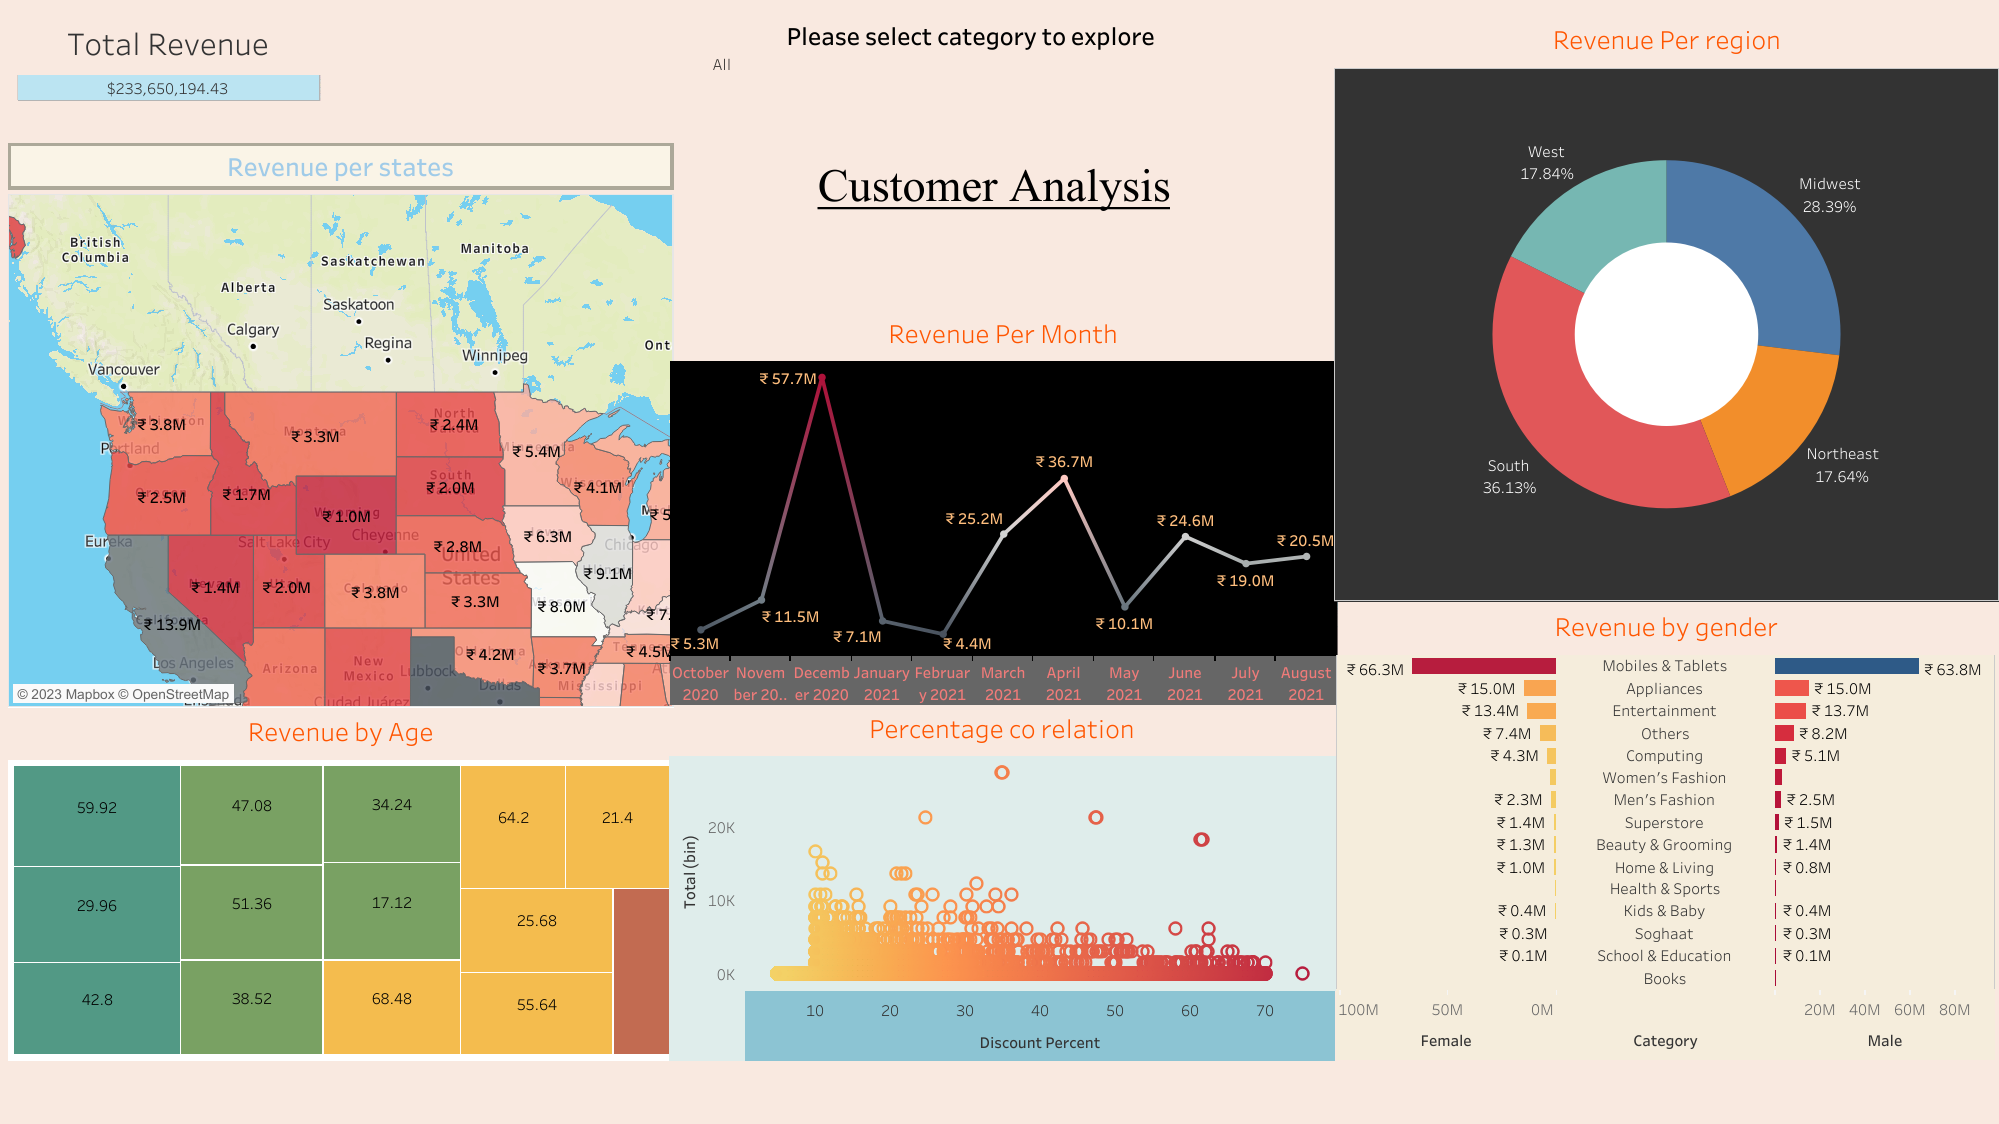

The page's visual inventory and layout, read from the dashboard file:
{"tool":"tableau","page":{"name":"Dashboard 1","canvas":[1600,900],"ordinal":0},"visuals":[{"type":"text","box":[8,8,1584,884]},{"type":"worksheet","title":"Total","mark":"Automatic","box":[14,11,241,96]},{"type":"worksheet","title":"Revenue Per region","mark":"Pie","rows":["Calculation_1046523982064128000","Calculation_1046523982064128000"],"box":[1067,11,533,470]},{"type":"filter","title":"Revenue by gender","param":"[federated.18mufdy0m8a3381fvh0fz1dyxje2].[none:category:nk]","box":[568,14,417,99]},{"type":"worksheet","title":"sells per state","mark":"Automatic","box":[6,114,533,452]},{"type":"text","box":[580,124,431,48]},{"type":"worksheet","title":"revenue per month","mark":"Line","rows":["total"],"cols":["month"],"box":[536,246,533,318]},{"type":"worksheet","title":"Revenue by gender","mark":"Automatic","rows":["category"],"cols":["Calculation_1046523982068817921","Calculation_1046523982064128000","Calculation_1046523982069063682"],"box":[1069,481,528,368]},{"type":"worksheet","title":"Percentage co relation","mark":"Automatic","rows":["Total (bin)"],"cols":["Discount_Percent"],"box":[535,562,533,287]},{"type":"worksheet","title":"revenuw by age","mark":"Automatic","box":[6,565,533,284]}]}

Visuals, with their boxes in screenshot pixels (x1, y1, x2, y2), scaled from the page's 1600x900 canvas onto the 1999x1124 screenshot:
text: <bbox>10, 10, 1989, 1114</bbox>
"Total" worksheet: <bbox>17, 14, 319, 134</bbox>
"Revenue Per region" worksheet (Pie marks): <bbox>1333, 14, 1998, 601</bbox>
"Revenue by gender" filter: <bbox>710, 17, 1231, 141</bbox>
"sells per state" worksheet: <bbox>7, 142, 673, 707</bbox>
text: <bbox>725, 155, 1263, 215</bbox>
"revenue per month" worksheet (Line marks): <bbox>670, 307, 1336, 704</bbox>
"Revenue by gender" worksheet: <bbox>1336, 601, 1995, 1060</bbox>
"Percentage co relation" worksheet: <bbox>668, 702, 1334, 1060</bbox>
"revenuw by age" worksheet: <bbox>7, 706, 673, 1060</bbox>
